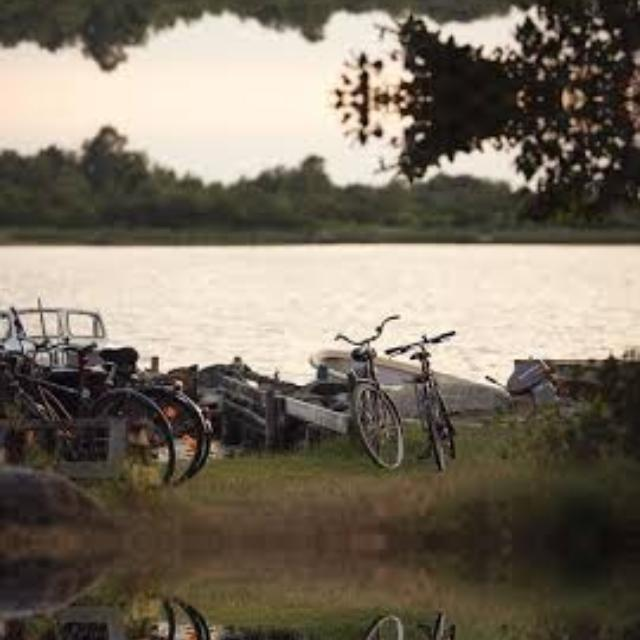obstacle: (332, 315, 410, 473), (399, 330, 466, 470), (332, 610, 409, 640), (399, 613, 466, 640)
